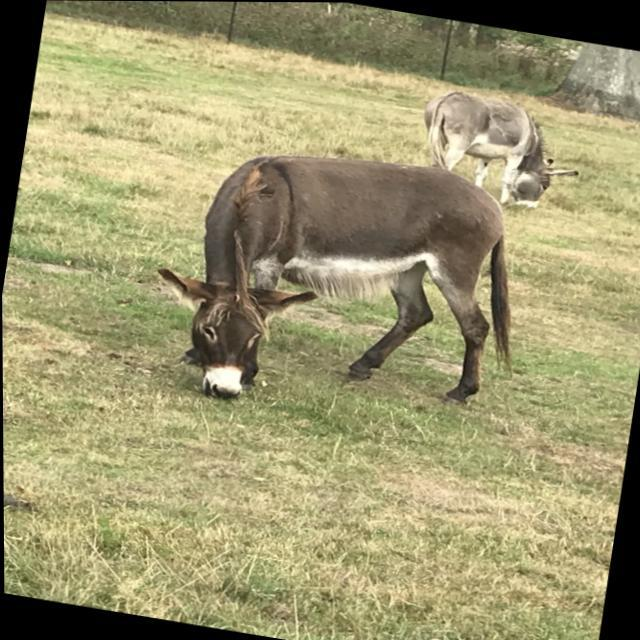Donkey: (136, 121, 546, 448), (411, 83, 592, 216)
